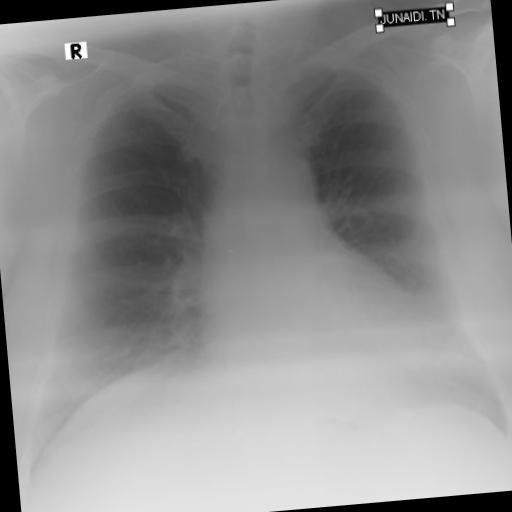kardiomegali: (0, 10, 512, 479)
